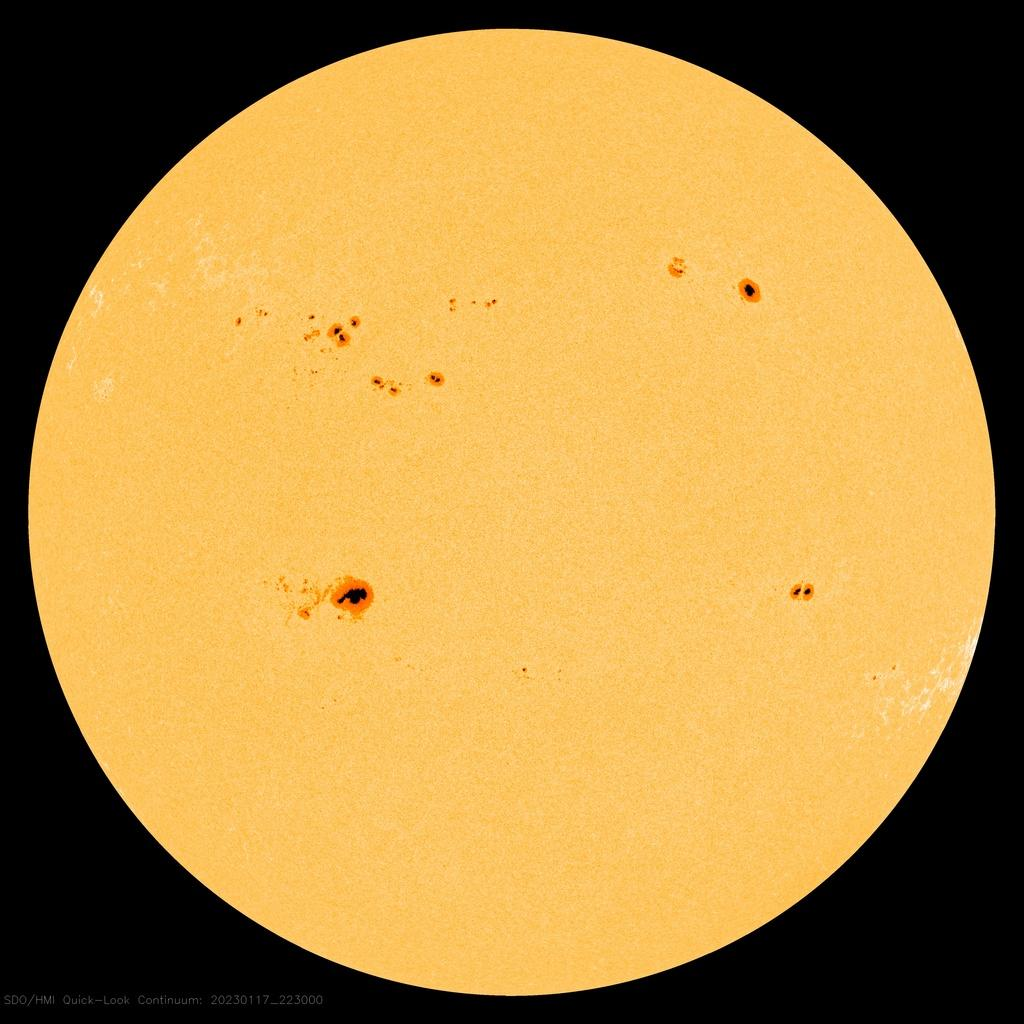flare: (229, 290, 507, 405), (255, 565, 382, 636), (663, 254, 763, 308), (781, 568, 828, 616)
